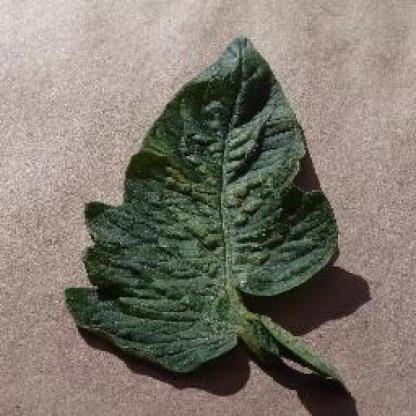Tomato_Spider_Mites: (67, 37, 338, 376)
